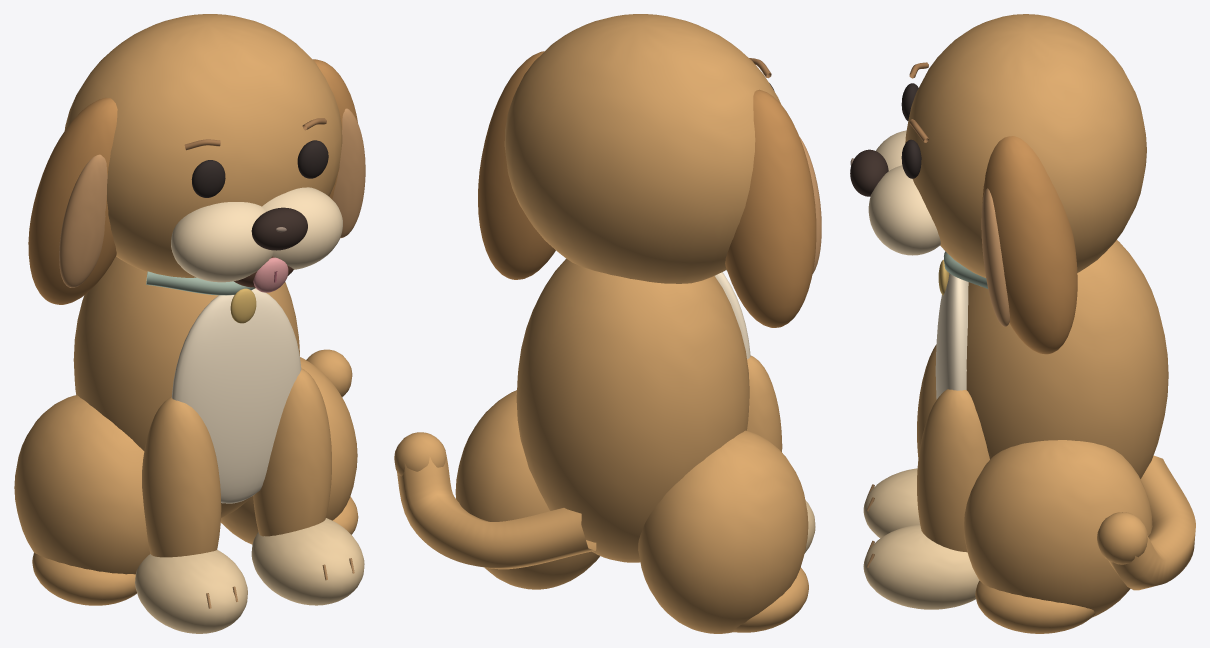
Rendered from cute-puppy.glb.
3 renders of one model, left to right at view 1: azimuth 30°, elevation 25°; view 2: azimuth 150°, elevation 25°; view 3: azimuth 270°, elevation 25°, orthographic. The views are drawn at different scales.
Visible parts, largest first — view 1: cute-puppy-plush:#dba769, cute-puppy-cream:#f8e5c7, cute-puppy-plush:#efd0a2, cute-puppy-plush:#c78f54, cute-puppy-cream:#f4dab3, cute-puppy-plush:#d5a16e, cute-puppy-dark:#332a27, cute-puppy-dark:#3f302a, cute-puppy-satin:#a5b7a5, cute-puppy-pink:#e29d9d, cute-puppy-gold:#d7b267; view 2: cute-puppy-plush:#dba769, cute-puppy-plush:#c78f54, cute-puppy-cream:#f8e5c7, cute-puppy-plush:#d5a16e; view 3: cute-puppy-plush:#dba769, cute-puppy-plush:#c78f54, cute-puppy-plush:#efd0a2, cute-puppy-cream:#f4dab3, cute-puppy-cream:#f8e5c7, cute-puppy-plush:#d5a16e, cute-puppy-dark:#3f302a, cute-puppy-dark:#332a27, cute-puppy-satin:#a5b7a5.
Boxes of the visible parts, x1,y1,x2,y2 form: cute-puppy-plush:#dba769: [14, 14, 358, 605]; cute-puppy-cream:#f8e5c7: [171, 288, 301, 503]; cute-puppy-plush:#efd0a2: [135, 518, 364, 633]; cute-puppy-plush:#c78f54: [28, 59, 357, 304]; cute-puppy-cream:#f4dab3: [171, 187, 342, 282]; cute-puppy-plush:#d5a16e: [59, 108, 365, 287]; cute-puppy-dark:#332a27: [191, 140, 328, 197]; cute-puppy-dark:#3f302a: [251, 207, 307, 250]; cute-puppy-satin:#a5b7a5: [146, 271, 255, 295]; cute-puppy-pink:#e29d9d: [253, 257, 288, 292]; cute-puppy-gold:#d7b267: [230, 288, 256, 323]; cute-puppy-plush:#dba769: [394, 14, 808, 633]; cute-puppy-plush:#c78f54: [478, 51, 816, 327]; cute-puppy-cream:#f8e5c7: [715, 272, 750, 359]; cute-puppy-plush:#d5a16e: [799, 137, 821, 274]; cute-puppy-plush:#dba769: [905, 14, 1195, 633]; cute-puppy-plush:#c78f54: [982, 136, 1077, 354]; cute-puppy-plush:#efd0a2: [863, 468, 979, 609]; cute-puppy-cream:#f4dab3: [868, 130, 940, 255]; cute-puppy-cream:#f8e5c7: [935, 273, 968, 399]; cute-puppy-plush:#d5a16e: [981, 188, 1009, 326]; cute-puppy-dark:#3f302a: [850, 149, 888, 196]; cute-puppy-dark:#332a27: [901, 83, 921, 178]; cute-puppy-satin:#a5b7a5: [944, 251, 987, 288].
Size of the model in its own units: 0.8917 by 1.31 by 0.7511.
